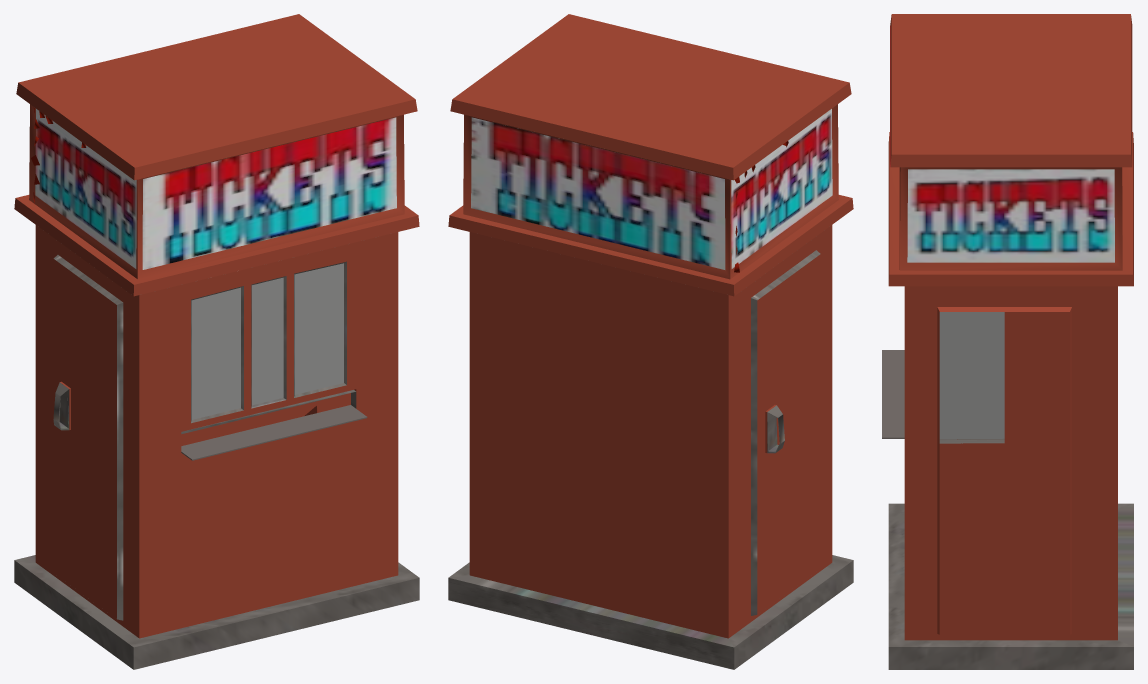
The model's file is ticket-booth.lod1.glb.
The picture shows the model from 3 angles, left to right: view 1: azimuth 30°, elevation 25°; view 2: azimuth 150°, elevation 25°; view 3: azimuth 270°, elevation 25°; orthographic projection. The views are drawn at different scales.
Visible parts, largest first — view 1: Object_2, Object_5; view 2: Object_2, Object_5; view 3: Object_2, Object_5.
Boxes of the visible parts, x1=… form: Object_2: x1=14, y1=14, x2=419, y2=638; Object_5: x1=14, y1=109, x2=419, y2=669; Object_2: x1=448, y1=14, x2=853, y2=638; Object_5: x1=448, y1=109, x2=853, y2=669; Object_2: x1=888, y1=14, x2=1133, y2=640; Object_5: x1=882, y1=25, x2=1133, y2=669.
Size of the model in its own units: 1.63 by 2.7 by 1.2.
Materials: 2 (1 with a texture image).
